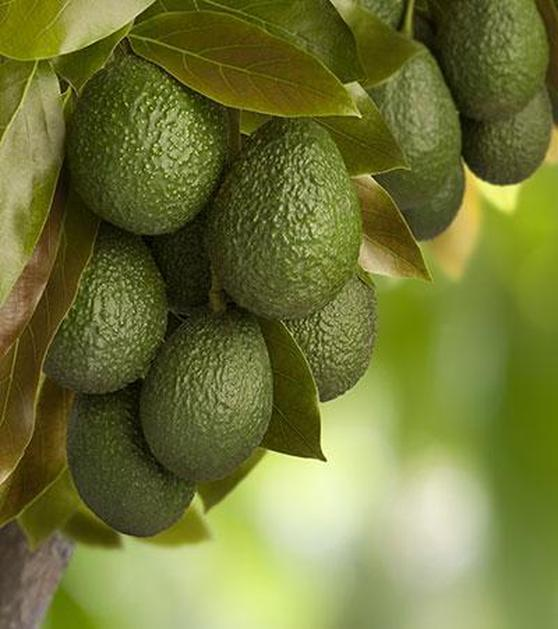avocado: (62, 48, 233, 238), (209, 114, 363, 320), (142, 308, 272, 489), (50, 232, 172, 401), (56, 393, 195, 538), (377, 53, 466, 217), (435, 1, 550, 120), (290, 278, 381, 410)
